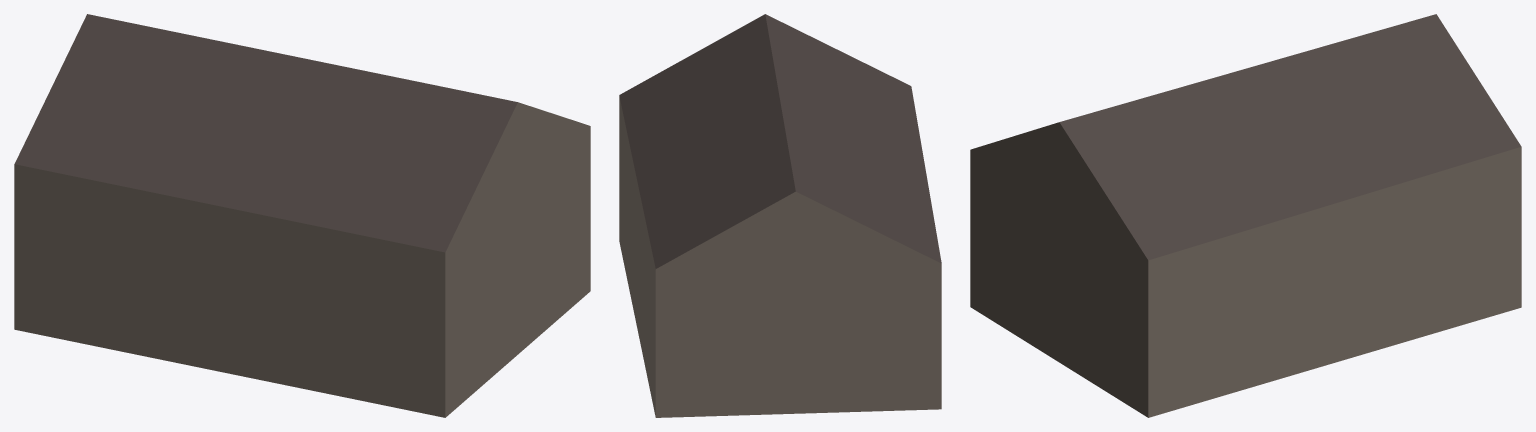
3 renders of one model, left to right at view 1: azimuth 30°, elevation 25°; view 2: azimuth 150°, elevation 25°; view 3: azimuth 270°, elevation 25°, orthographic. The views are drawn at different scales.
Parts seen in each view (by area): view 1: HP-w1197556193; view 2: HP-w1197556193; view 3: HP-w1197556193.
Boxes of the visible parts, x1=… form: HP-w1197556193: x1=14, y1=14, x2=590, y2=417; HP-w1197556193: x1=619, y1=14, x2=941, y2=417; HP-w1197556193: x1=970, y1=14, x2=1521, y2=417.
Bounding box in the file's own units: 17.88 × 9.16 × 19.03.
